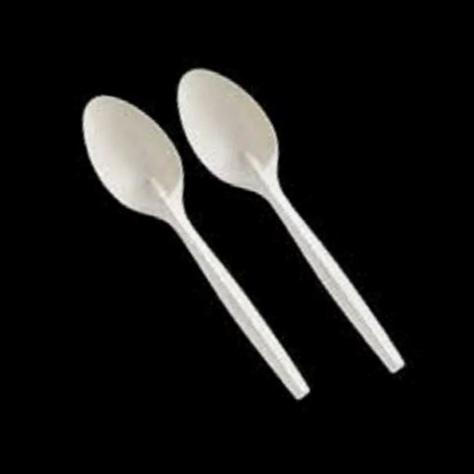Plastik: (83, 96, 308, 398), (178, 69, 403, 371)
